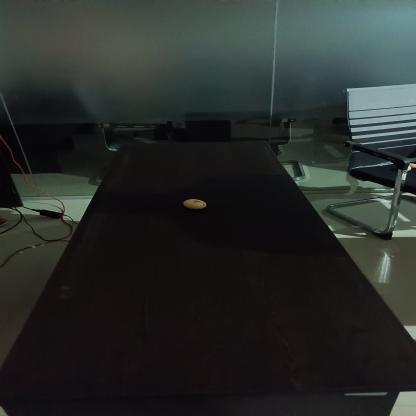egg: (182, 198, 208, 210)
